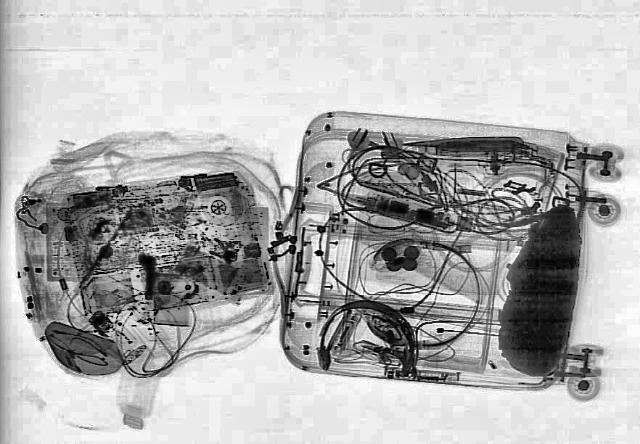Knife: (398, 138, 520, 151)
